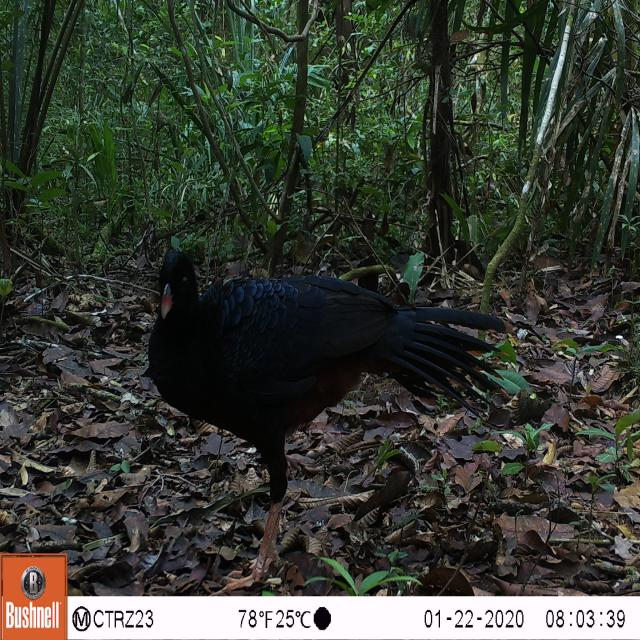Salvins Curassow: (114, 213, 514, 595)
